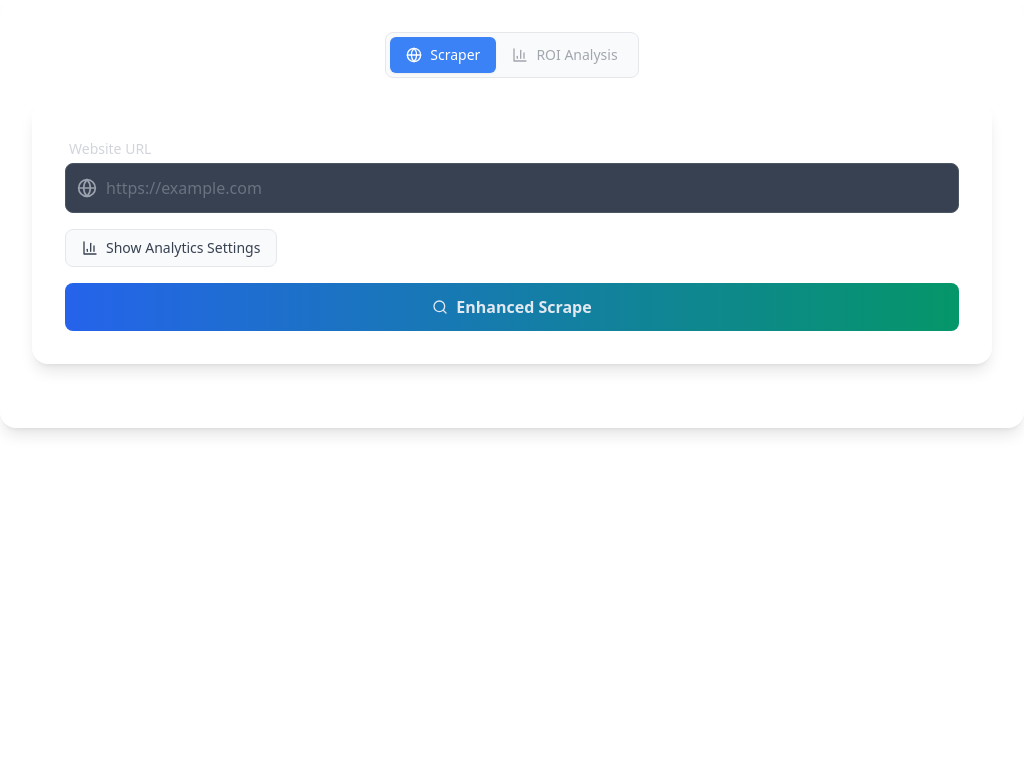
EnhancedWebScraper › toggles analytics settings visibility
This screenshot has width=1024, height=768.
What coordinates should you click on to do the following:
click the button "Show Analytics Settings"
I would click on:
 (171, 248)
Its box is [65,229,277,267].
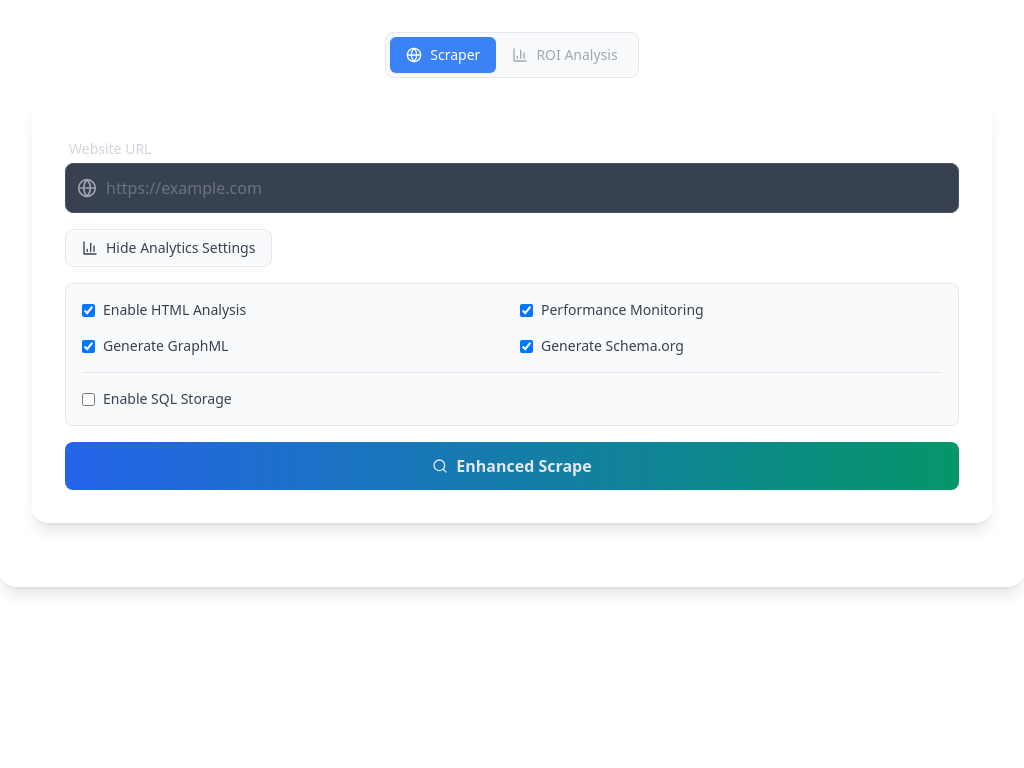
Expected: the button "Hide Analytics Settings" is shown, [65,229,272,267]
Expected: the text "Enable HTML Analysis" is shown, [103,300,246,320]
